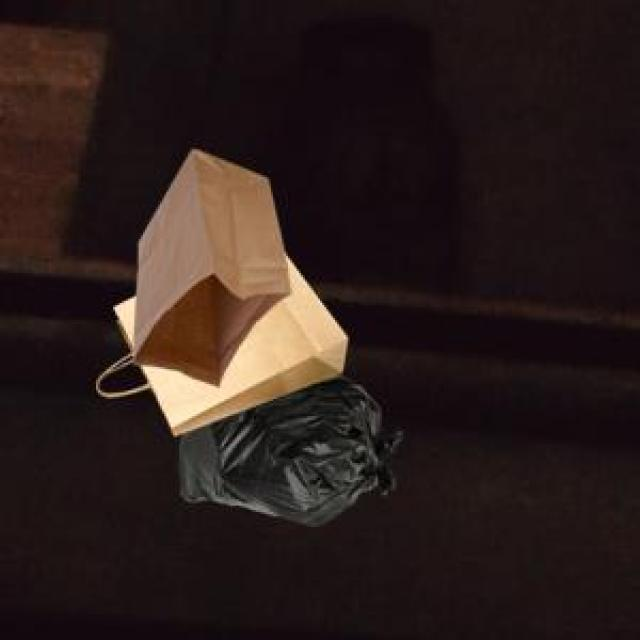miscellaneous trash: (175, 369, 399, 521)
paper: (111, 252, 344, 431), (130, 145, 286, 382)
